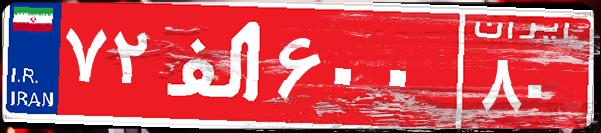0: (385, 28, 445, 110), (330, 28, 385, 110), (525, 38, 570, 115)
2: (110, 28, 158, 105)
6: (273, 28, 330, 110)
7: (57, 26, 110, 107)
8: (475, 38, 525, 113)
الف: (158, 15, 273, 115)
